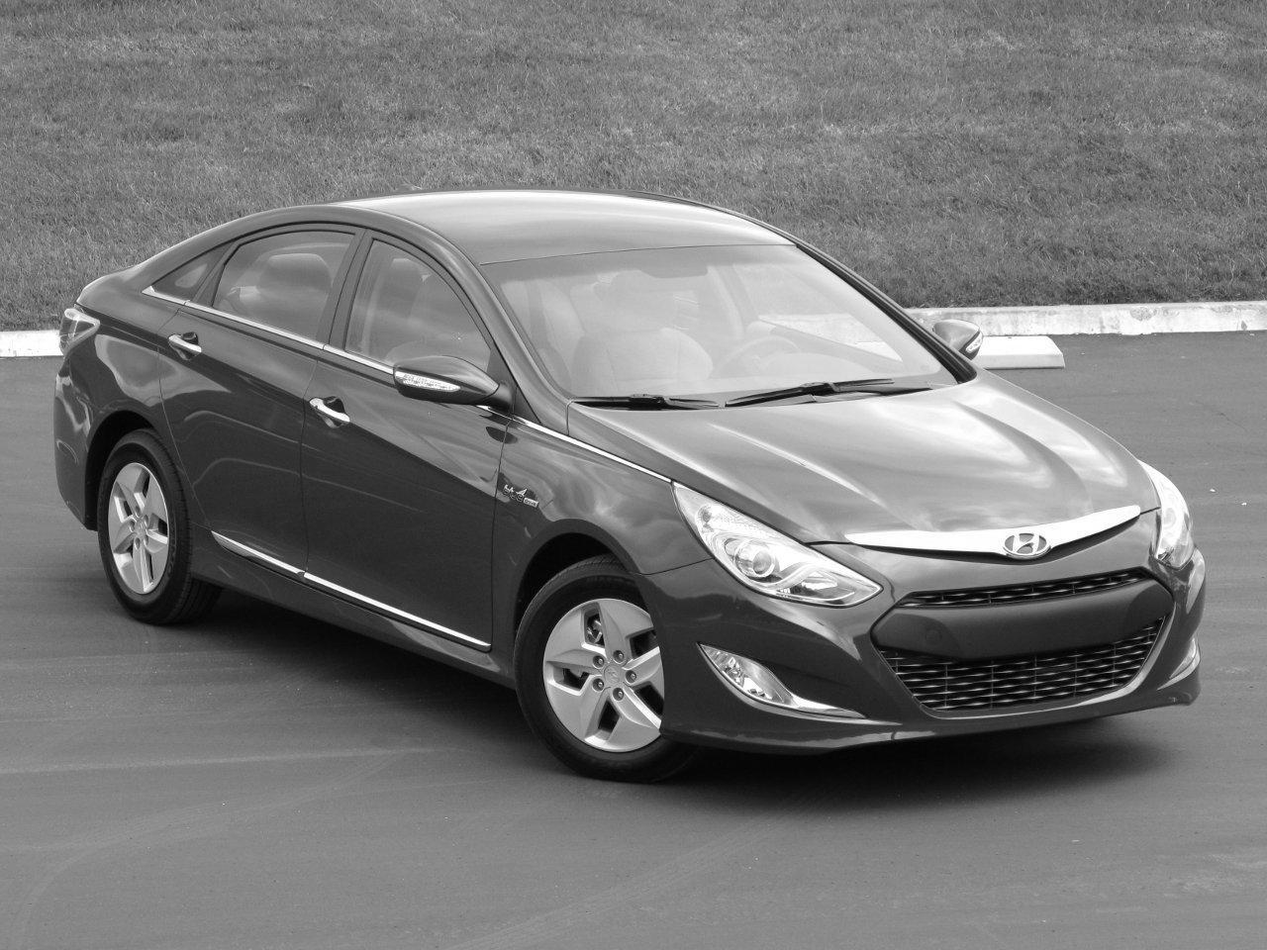car: (47, 177, 1215, 804)
